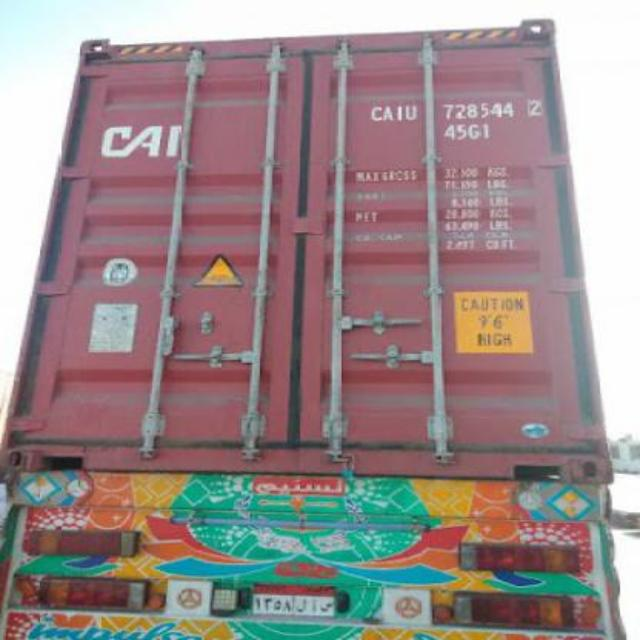2: (456, 102, 466, 118), (530, 100, 542, 112)
4: (490, 100, 502, 116), (504, 100, 514, 116)
5: (480, 100, 492, 120)
7: (442, 102, 456, 122)
8: (468, 102, 480, 118)
A: (384, 105, 392, 123)
C: (370, 105, 382, 123)
I: (396, 105, 404, 123)
U: (404, 103, 418, 121)
